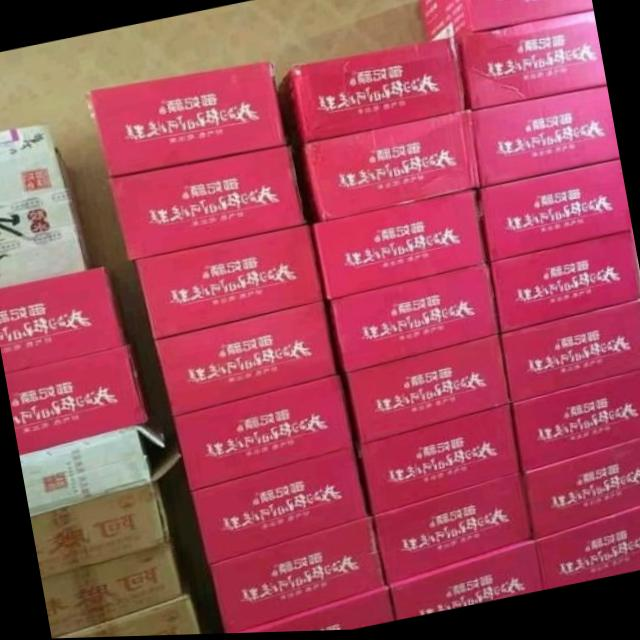box: (87, 60, 286, 177), (109, 146, 304, 261), (135, 224, 323, 339), (287, 113, 479, 223), (207, 516, 384, 635), (172, 374, 352, 491), (190, 447, 366, 565), (154, 302, 336, 416), (277, 39, 465, 145), (335, 335, 511, 447), (305, 191, 484, 300), (323, 266, 498, 373), (352, 406, 519, 516), (367, 474, 531, 585), (6, 339, 152, 454), (473, 162, 632, 264), (484, 232, 640, 335), (454, 11, 607, 112), (0, 122, 93, 288), (471, 88, 620, 190), (20, 424, 180, 516), (499, 301, 640, 405), (0, 267, 130, 372), (509, 372, 640, 473), (42, 542, 181, 637), (31, 482, 169, 577), (384, 541, 543, 622), (519, 441, 640, 542), (529, 508, 640, 592), (229, 587, 394, 635), (418, 0, 593, 44), (53, 592, 199, 639)
